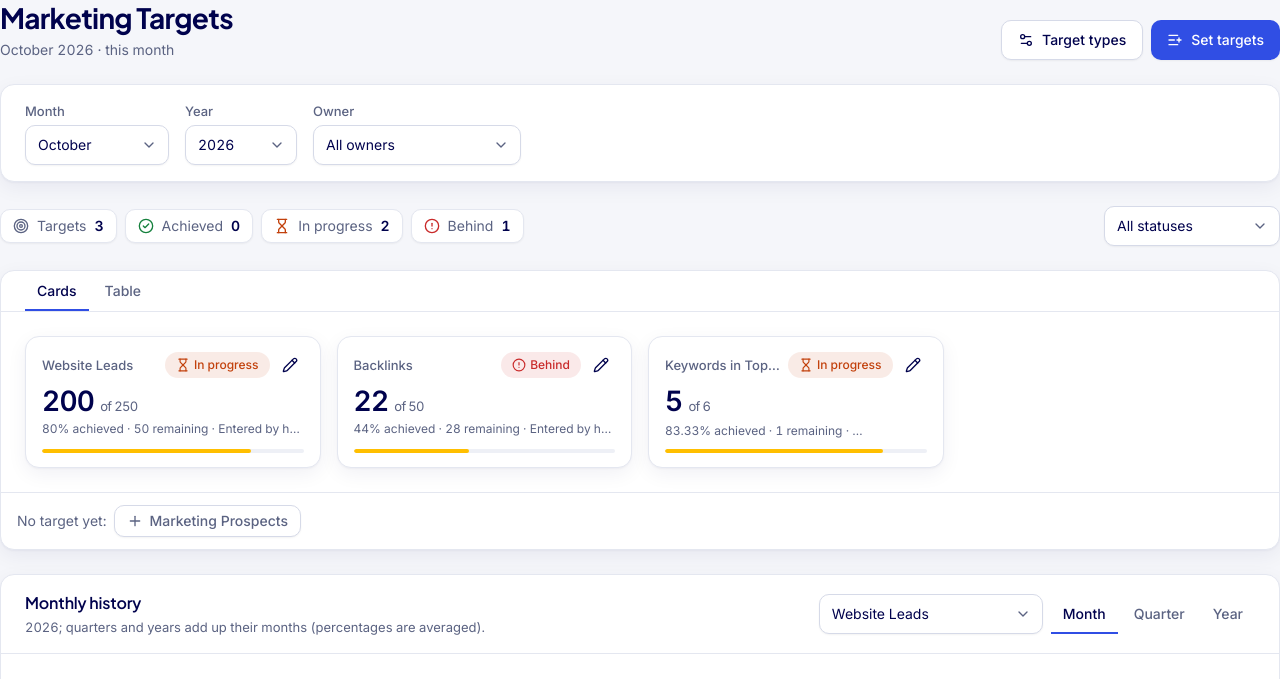
Scenario: TargetsPage › lets marketing managers manage target types; types in use keep their unit
The image size is (1280, 679).
Click the button "Target types": (1072,40) [1001,20,1143,60]
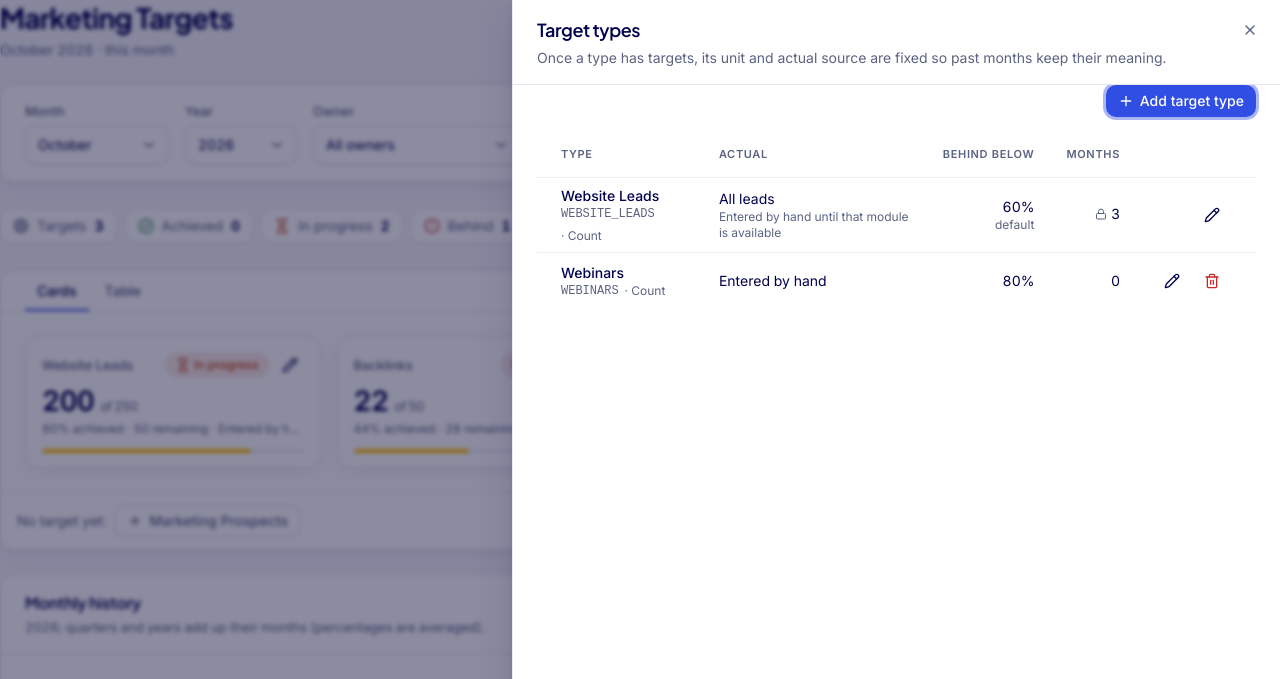
Result: the text "Entered by hand until that module is available" is shown at [719,208,911,240]
Result: the button named "Delete Webinars" is shown at [1192,260,1232,300]
Click the button named "Edit Website Leads": (1212,214) [1192,194,1232,234]
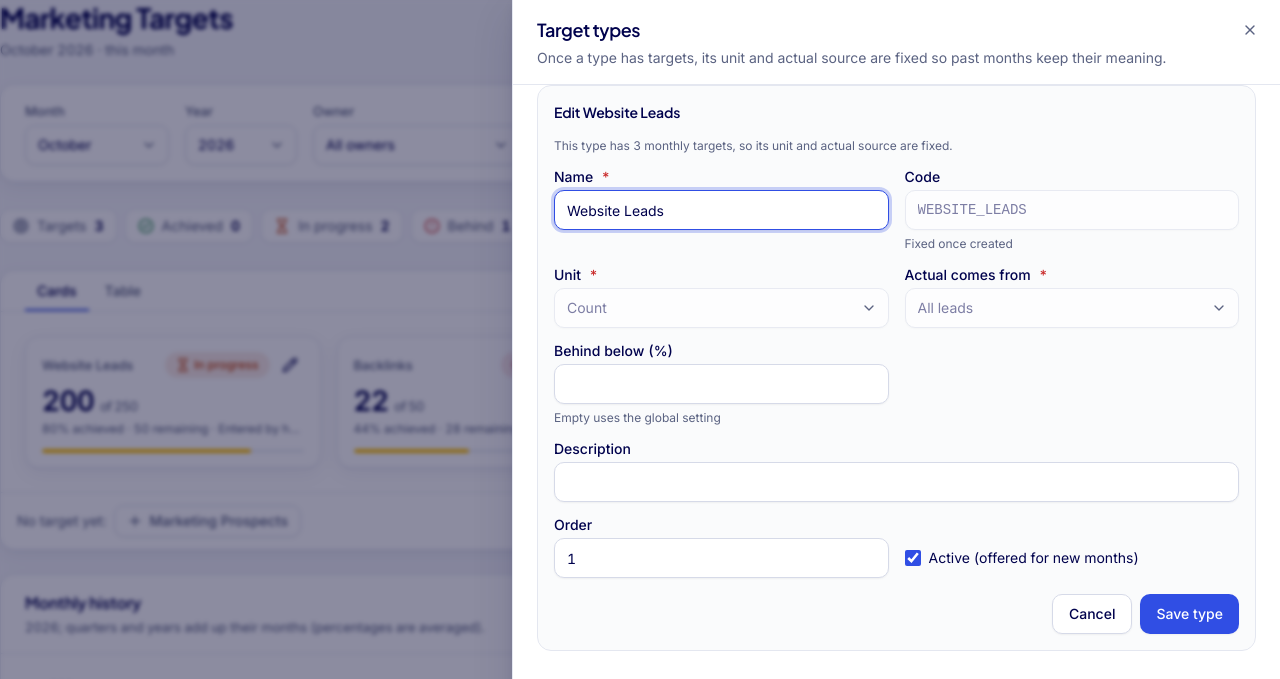
Result: the dropdown labelled "Unit *" is disabled at [554,288,888,328]
Result: the dropdown labelled "Actual comes from *" is disabled at [904,288,1239,328]
Click the button "Cancel": (1092,614) [1052,594,1132,634]
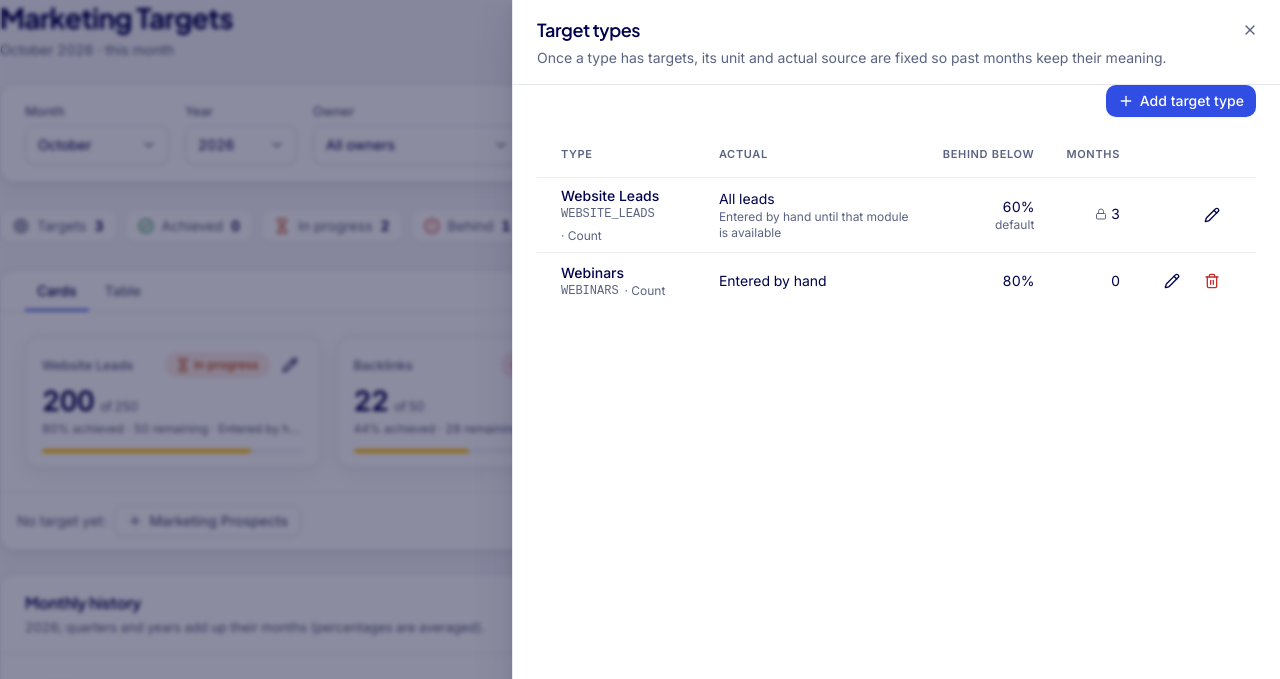
Click the button "Add target type": (1181,101) [1106,85,1256,117]
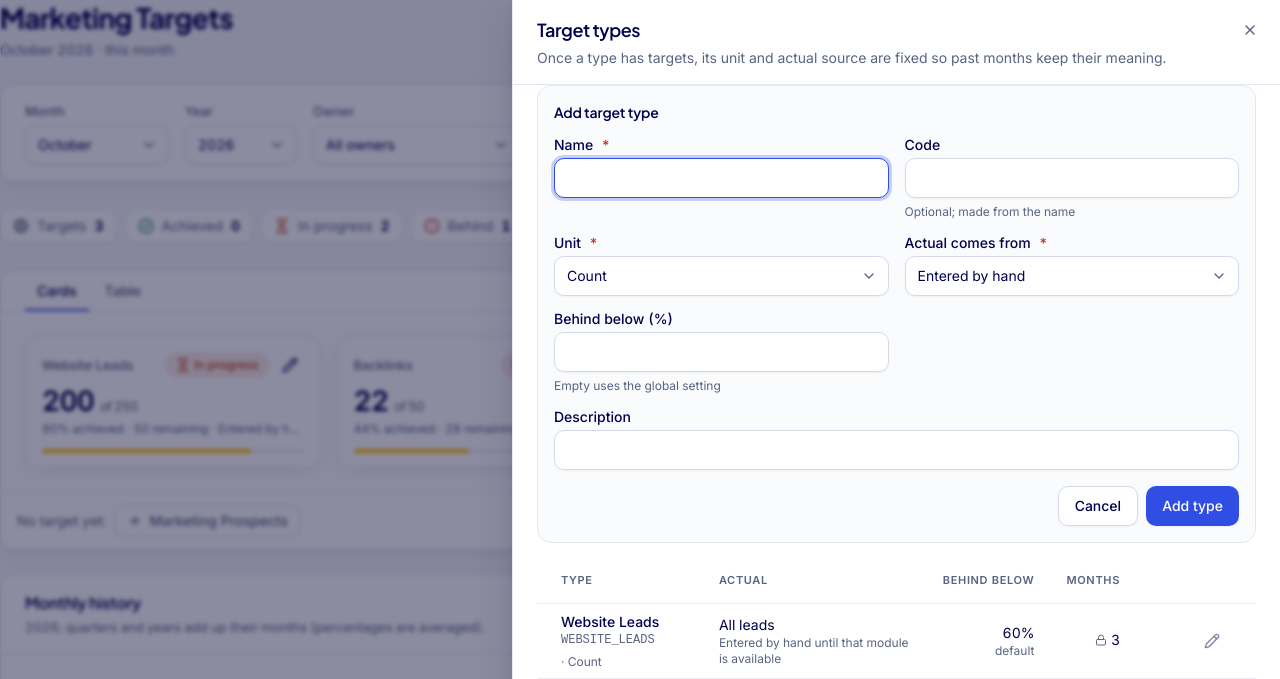
In the field labelled "Name *": (721,178) [554,158,888,198], type "Referral Leads"
Select "Leads from one source" in the dropdown labelled "Actual comes from *": (1072,276) [904,256,1239,296]
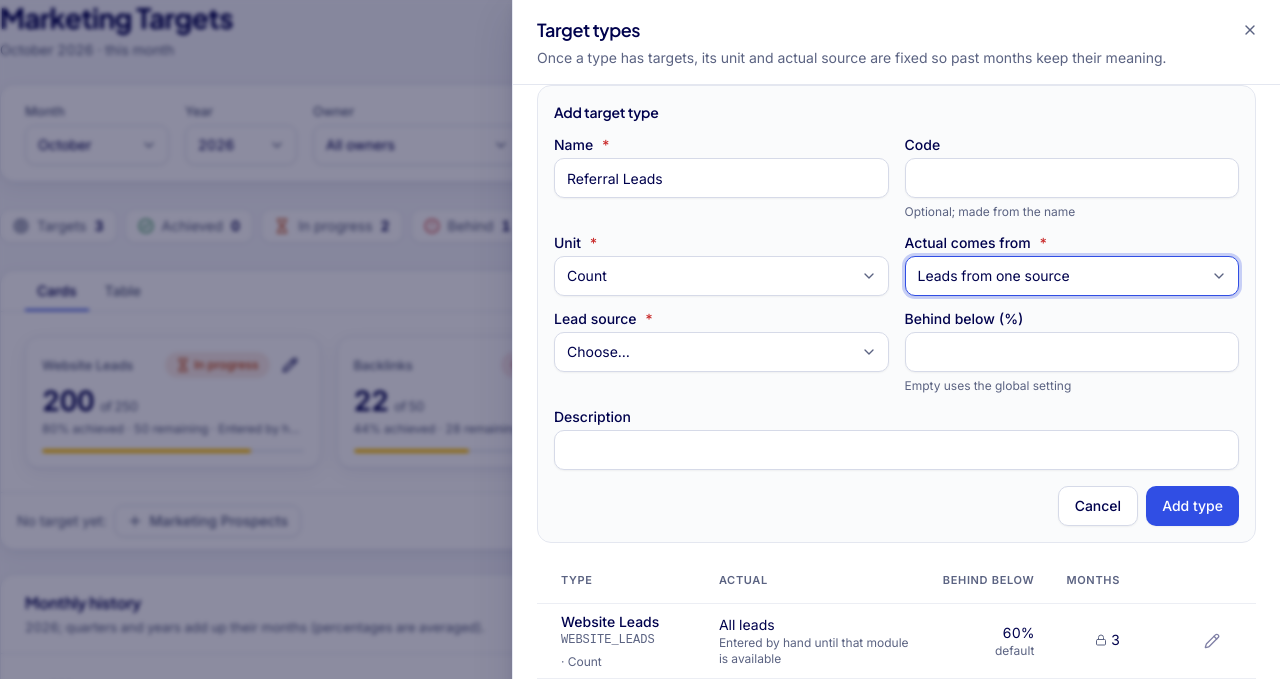
Click the button "Add type": (1193,506) [1146,486,1239,526]
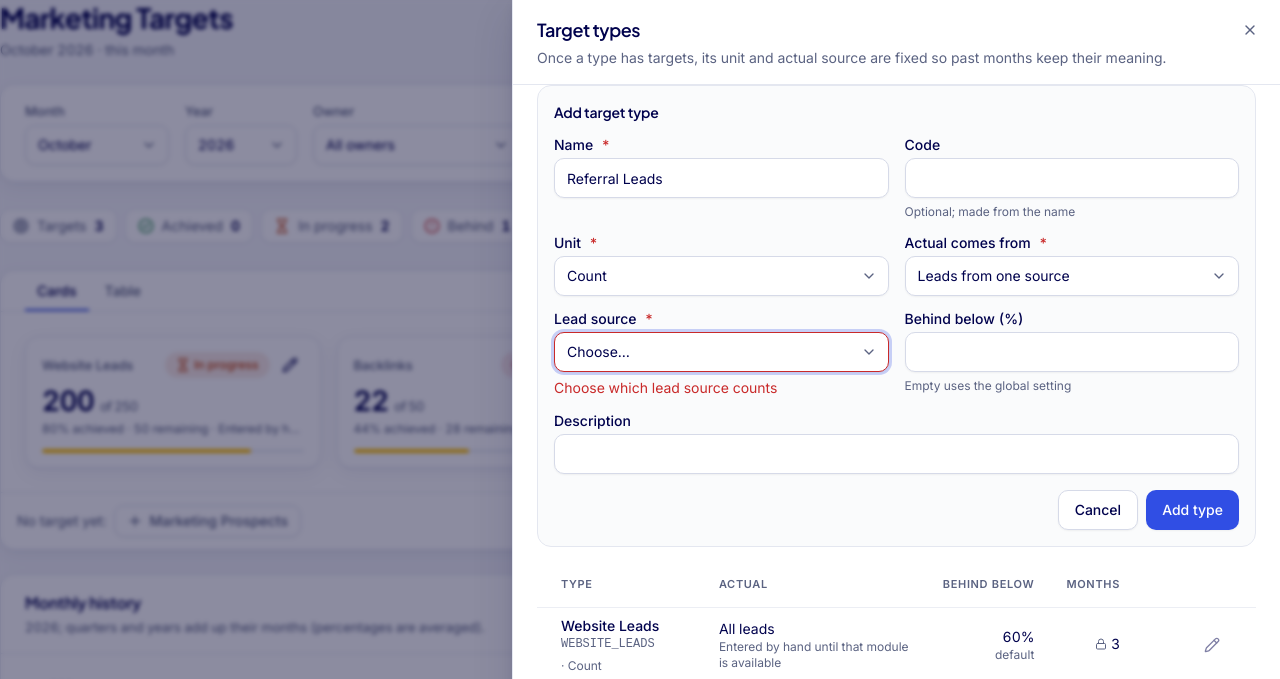
Result: the text "Choose which lead source counts" is shown at [554,379,778,396]
